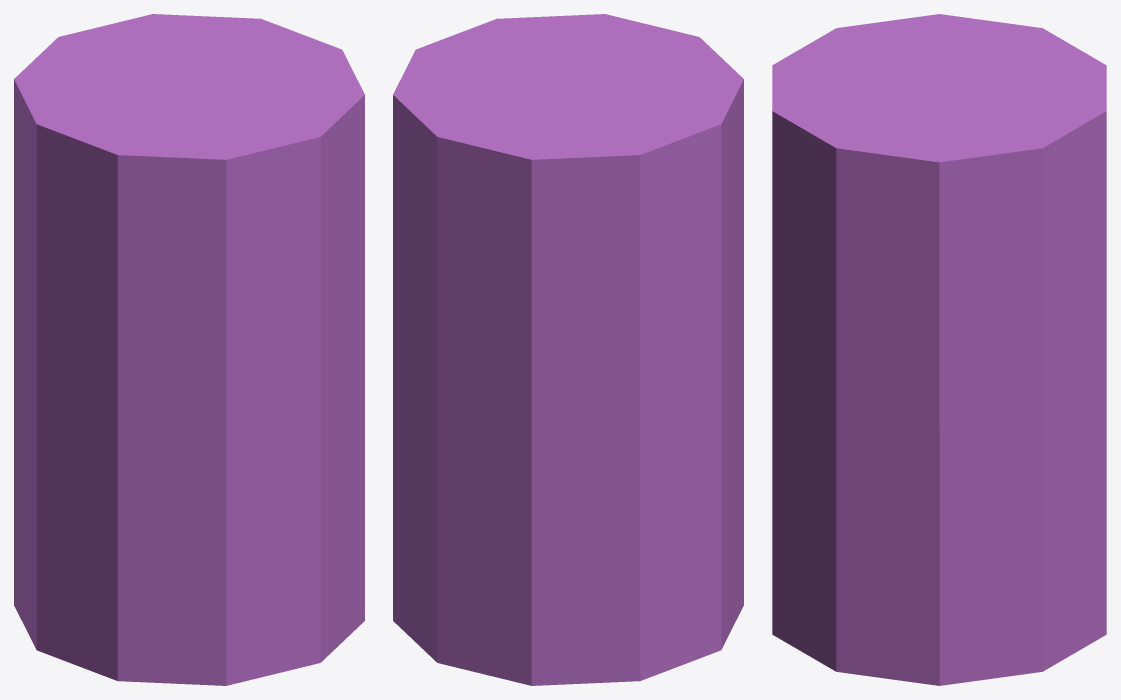
File: TrashCan_COL.fbx
3 renders of one model, left to right at view 1: azimuth 30°, elevation 25°; view 2: azimuth 150°, elevation 25°; view 3: azimuth 270°, elevation 25°, orthographic.
Parts seen in each view (by area): view 1: TrashCan_COL; view 2: TrashCan_COL; view 3: TrashCan_COL.
Boxes of the visible parts, x1,y1,x2,y2 form: TrashCan_COL: (14, 14, 364, 685); TrashCan_COL: (393, 14, 743, 685); TrashCan_COL: (772, 14, 1106, 685).
Size of the model in its own units: 59.28 by 97.5 by 56.38.
